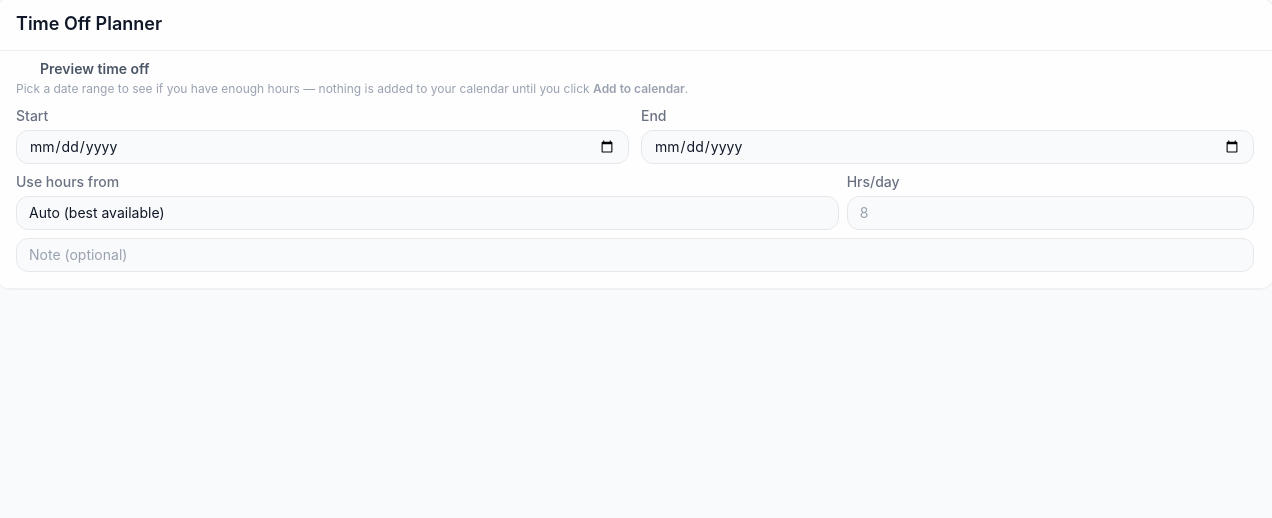
consistent calendar-local balance UX › rejects sub-quarter-hour input instead of accidentally saving a full day
Type "2026-09-30" into the date field labelled "Start" at coordinates (322, 146), box top-left (16, 130), bottom-right (629, 164)
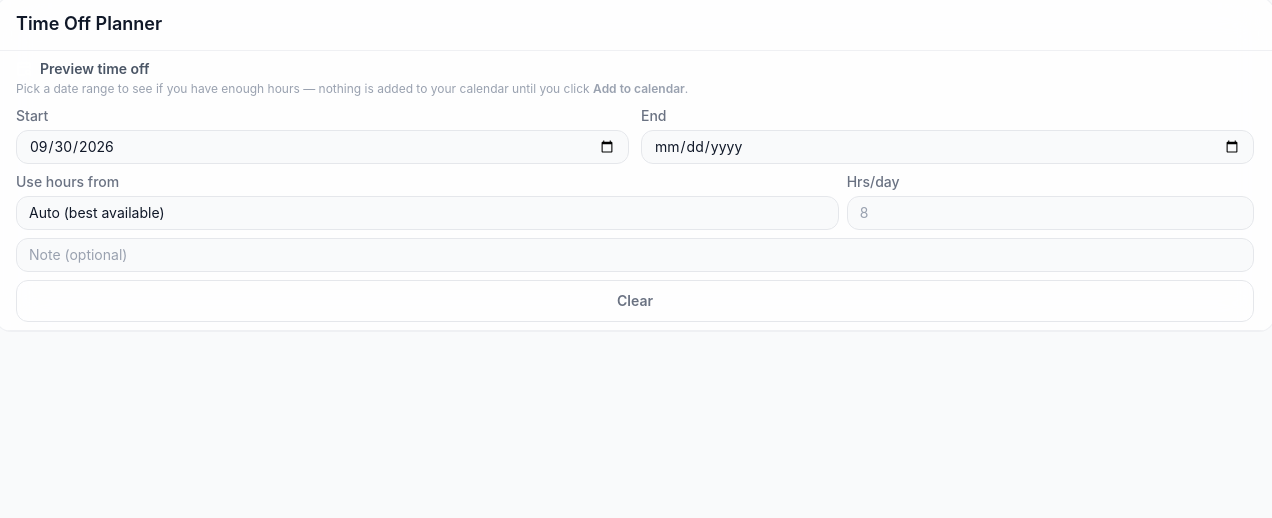
Type "2026-09-30" into the date field labelled "End" at coordinates (948, 146), box top-left (641, 130), bottom-right (1254, 164)
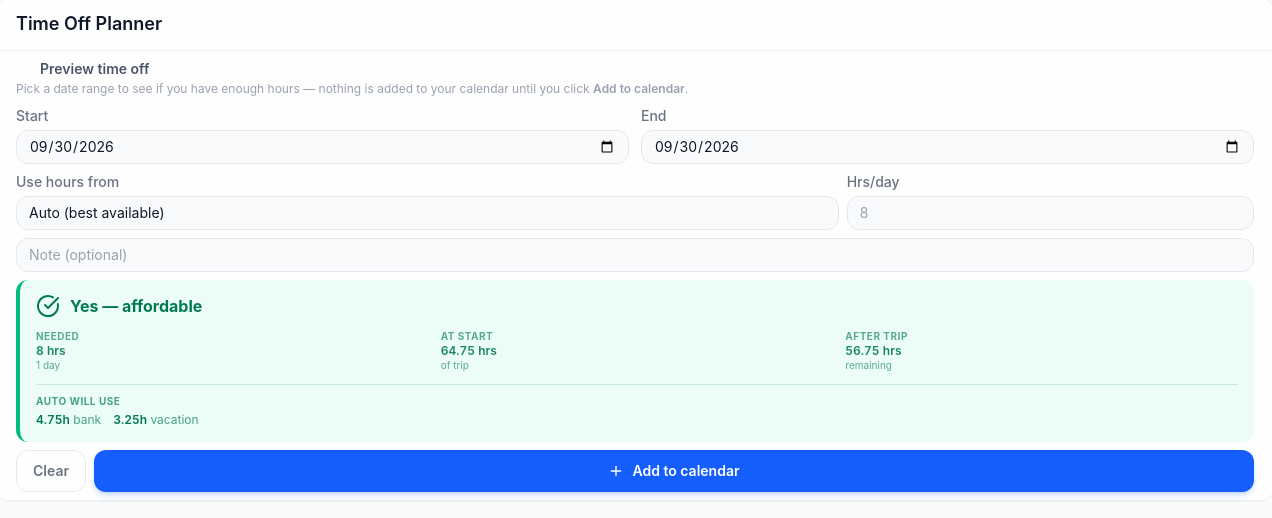
Type "0.1" into the number field labelled "Hrs/day" at coordinates (1050, 212), box top-left (847, 196), bottom-right (1254, 230)
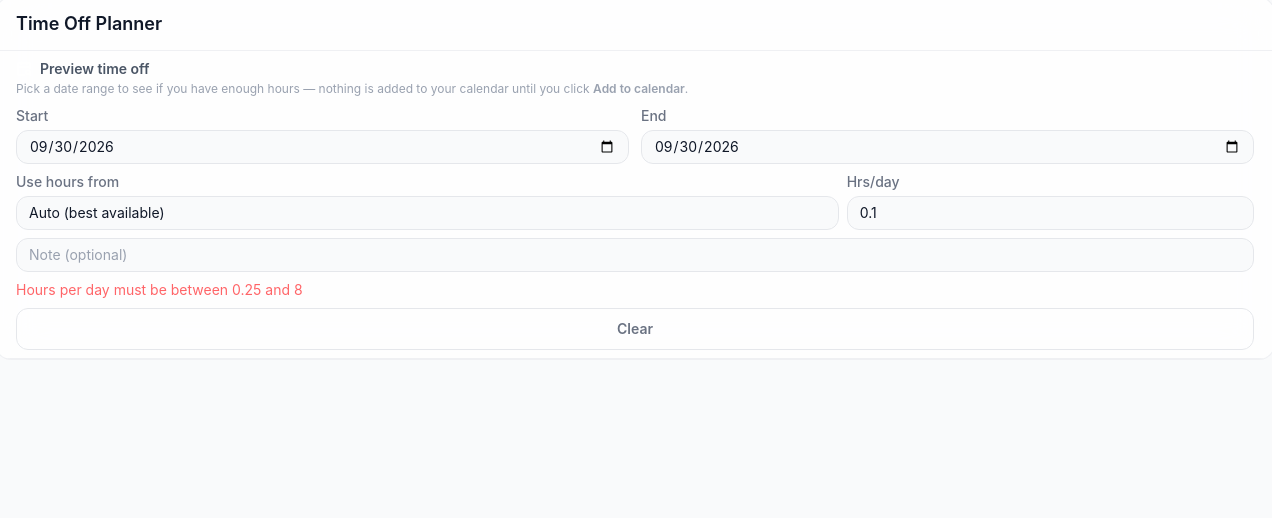
Check: the text "Hours per day must be between 0.25 and 8" is shown, box top-left (16, 280), bottom-right (303, 298)
